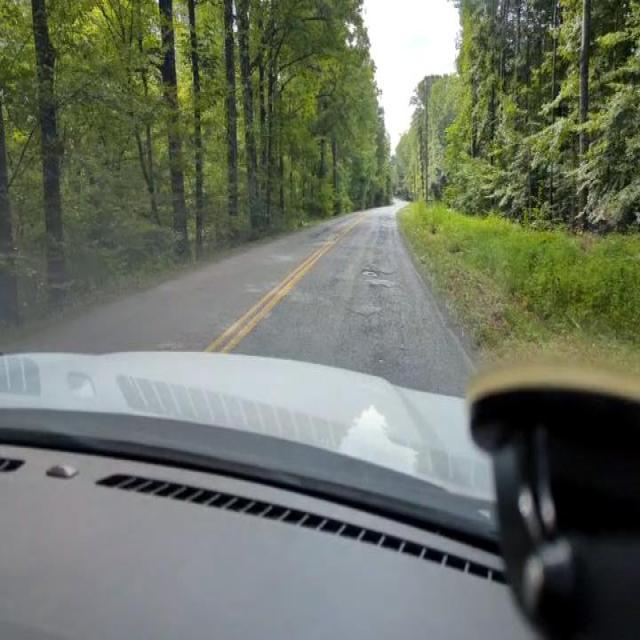pothole: (358, 262, 382, 282)
